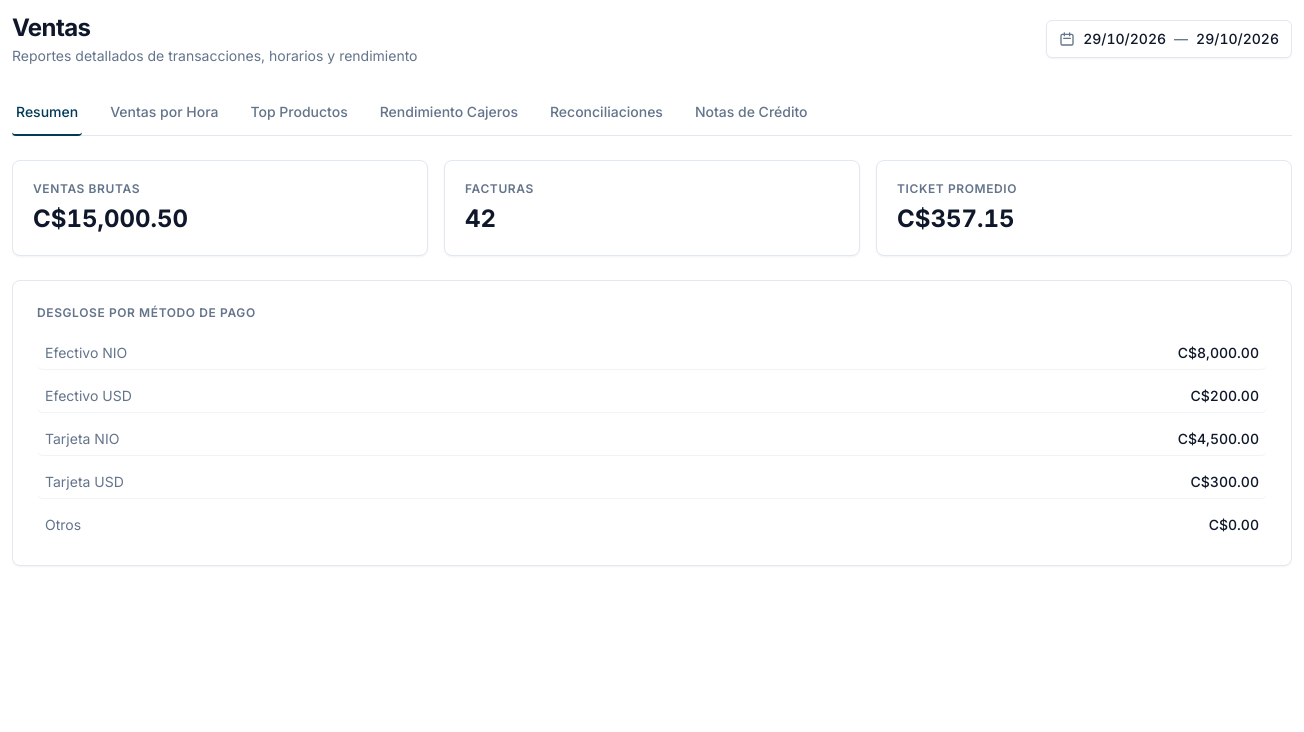
Test: W2 — SalesPage › switches to products tab
The image size is (1304, 732).
Click the button "Top Productos": (299, 113) [246,90,352,136]
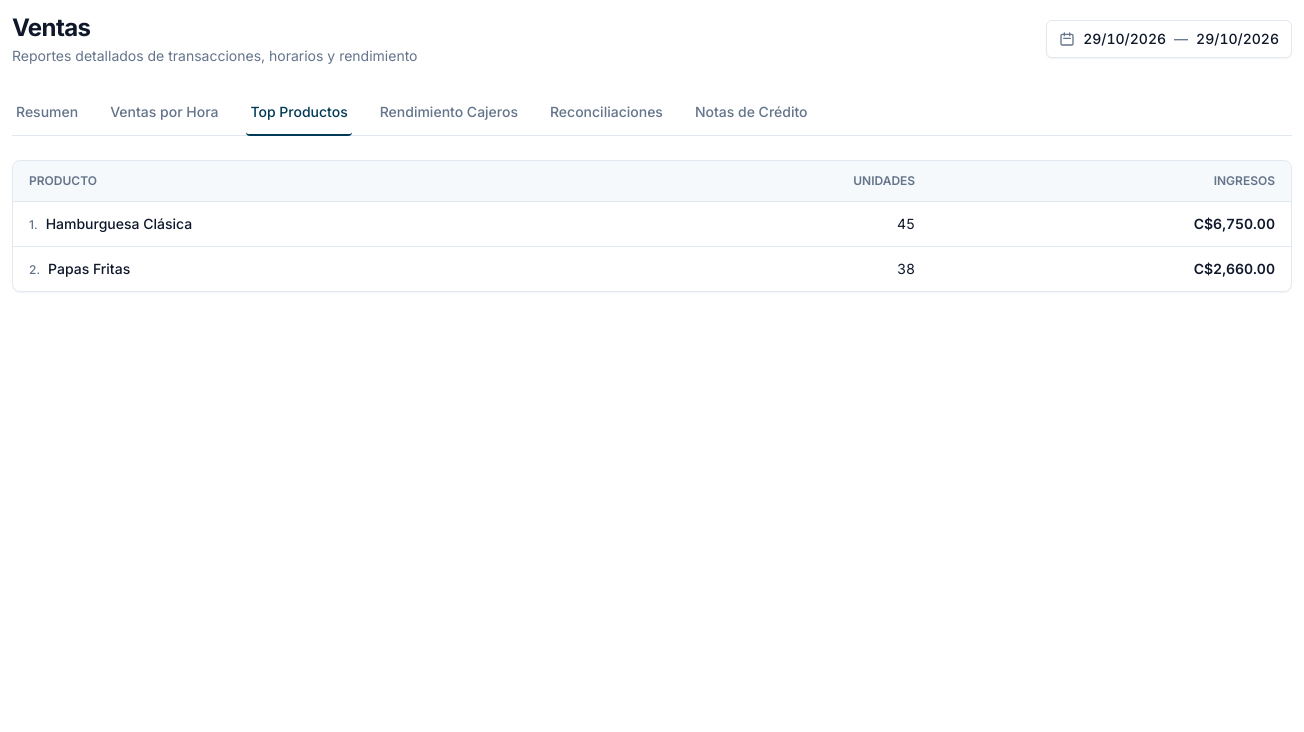
Now the text "Hamburguesa Clásica" is shown, box [46,215,192,232]
